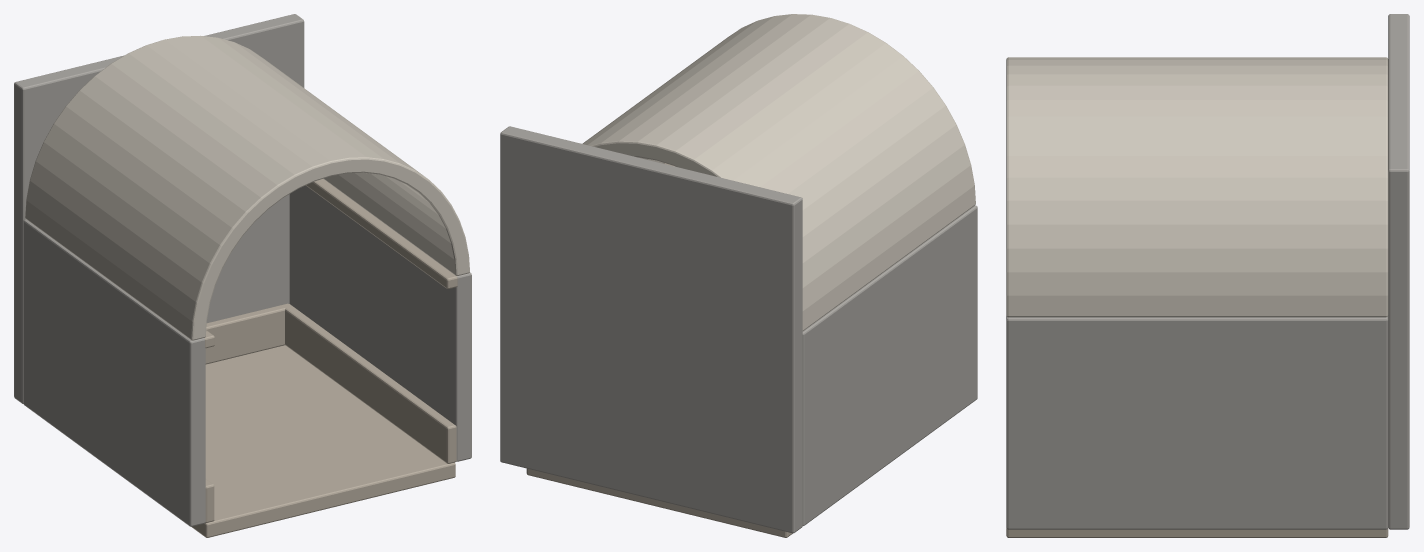
The model's file is museum_chamber.glb.
The picture shows the model from 3 angles, left to right: view 1: azimuth 30°, elevation 25°; view 2: azimuth 150°, elevation 25°; view 3: azimuth 270°, elevation 25°; orthographic projection. The views are drawn at different scales.
Visible parts, largest first — view 1: Chamber_Vault, Chamber_SideWall_Left, Chamber_Floor, Chamber_SideWall_Right, Chamber_BackWall, Chamber_Plinth_Right, Chamber_BackPlinth, Chamber_Impost_Right; view 2: Chamber_BackWall, Chamber_Vault, Chamber_SideWall_Left, Chamber_Floor; view 3: Chamber_Vault, Chamber_SideWall_Right, Chamber_BackWall, Chamber_Floor.
Part boxes in pixels (x1,y1,x2,y2): Chamber_Vault: (25,35,469,340); Chamber_SideWall_Left: (23,219,205,526); Chamber_Floor: (191,345,455,537); Chamber_SideWall_Right: (289,185,471,461); Chamber_BackWall: (14,14,304,403); Chamber_Plinth_Right: (283,304,456,463); Chamber_BackPlinth: (205,303,290,364); Chamber_Impost_Right: (306,179,457,288); Chamber_BackWall: (500,126,802,533); Chamber_Vault: (582,14,975,330); Chamber_SideWall_Left: (802,205,977,525); Chamber_Floor: (526,468,792,537); Chamber_Vault: (1006,57,1388,317); Chamber_SideWall_Right: (1006,315,1388,529); Chamber_BackWall: (1388,14,1409,529); Chamber_Floor: (1006,528,1388,537).
Bounding box in the file's own units: 8.75 × 10.27 × 9.5.
